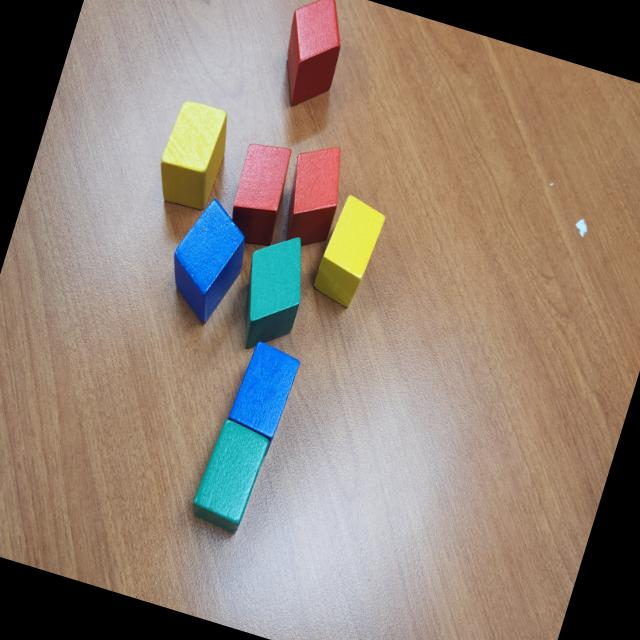blue: (156, 190, 260, 330), (224, 339, 302, 442)
green: (225, 226, 318, 361), (185, 414, 272, 536)
red: (267, 0, 357, 115), (271, 134, 354, 253), (221, 137, 297, 249)
yellow: (148, 96, 238, 214), (308, 192, 388, 310)
